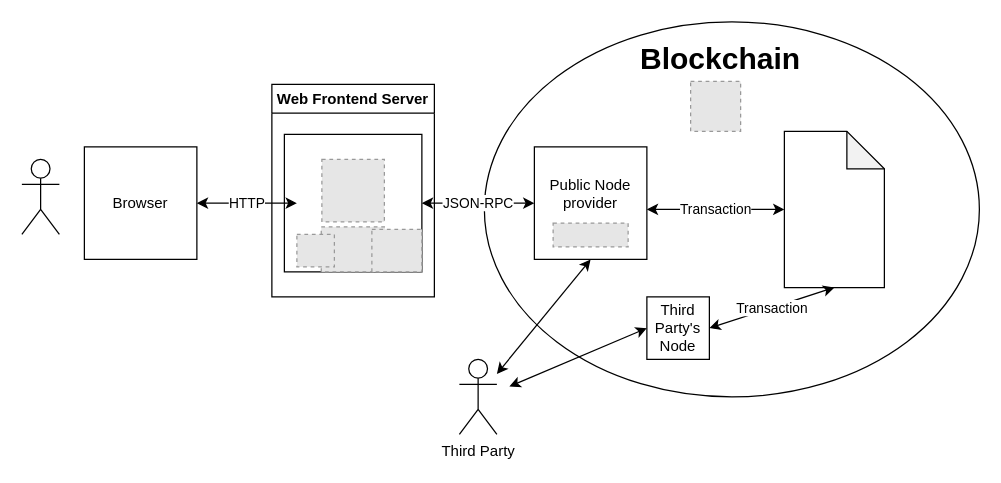
Image size: 1001x483. Some labels were removed from this diagram. Grey dashed boxes stand in for pictures. Here are the shapes that lost their labels. From the top down, the box of each, then its label:
(21, 158, 59, 234): User
(783, 130, 884, 288): Authenticated Bulletin Smart Contract
